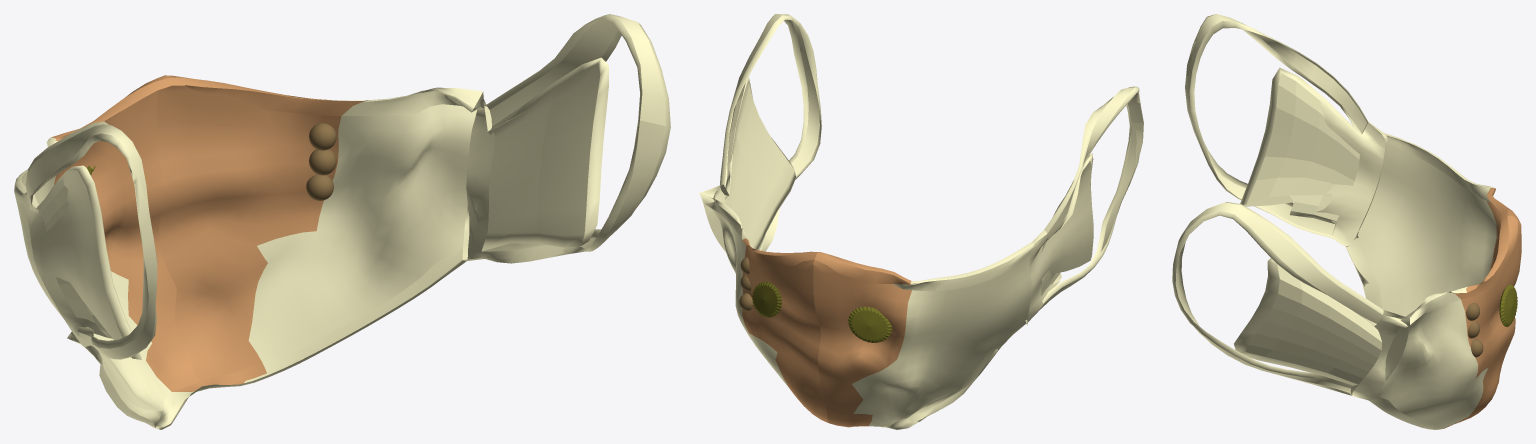
The model's file is mondkapjevoorrijketatas.fbx.
The picture shows the model from 3 angles, left to right: view 1: azimuth 30°, elevation 25°; view 2: azimuth 150°, elevation 25°; view 3: azimuth 270°, elevation 25°; orthographic projection. The views are drawn at different scales.
Visible parts, largest first — view 1: mask1.010; view 2: mask1.010; view 3: mask1.010.
Boxes of the visible parts, x1=… form: mask1.010: x1=14, y1=14, x2=670, y2=429; mask1.010: x1=699, y1=14, x2=1143, y2=429; mask1.010: x1=1172, y1=14, x2=1521, y2=429.
Size of the model in its own units: 87.13 by 68.53 by 68.04.
